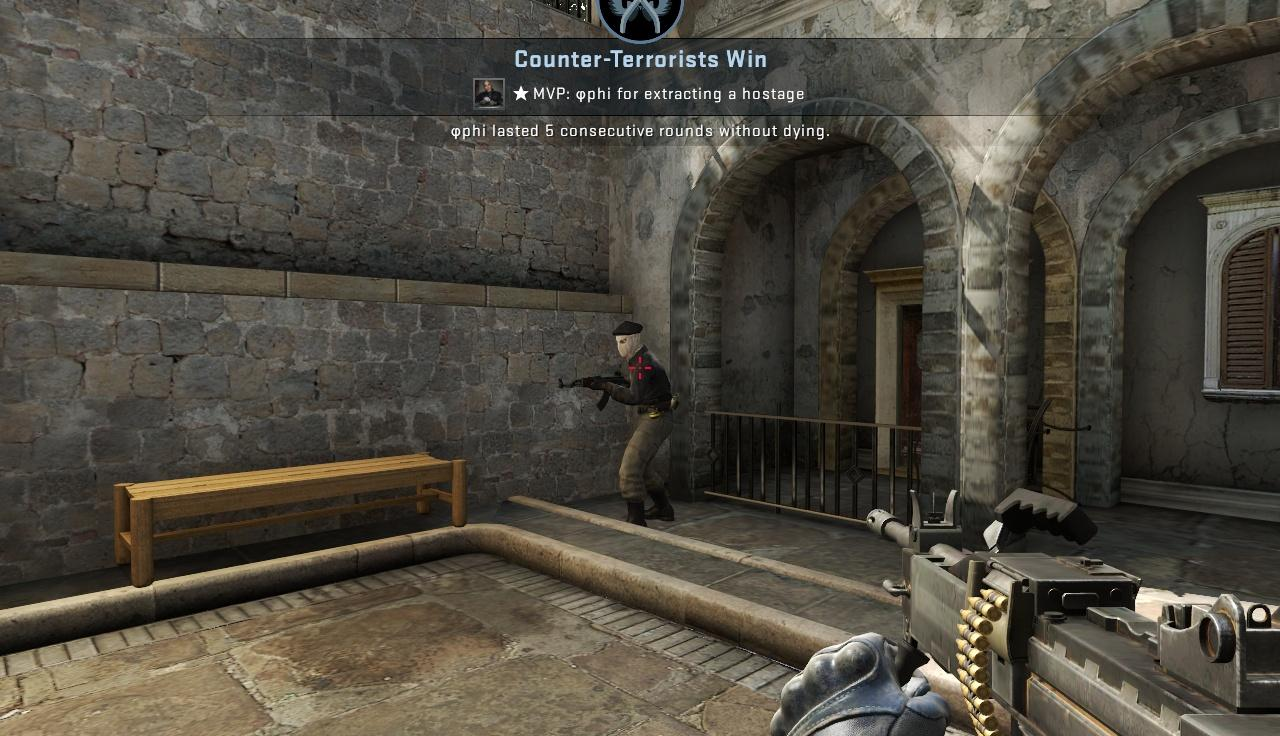rifle: (863, 481, 1280, 736)
tt: (613, 319, 677, 522)
tthead: (616, 322, 644, 360)
